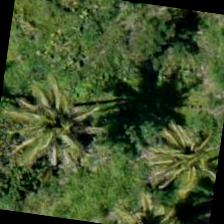Kelapa_Sawit: (5, 74, 108, 176), (137, 100, 223, 202), (107, 176, 205, 223)
